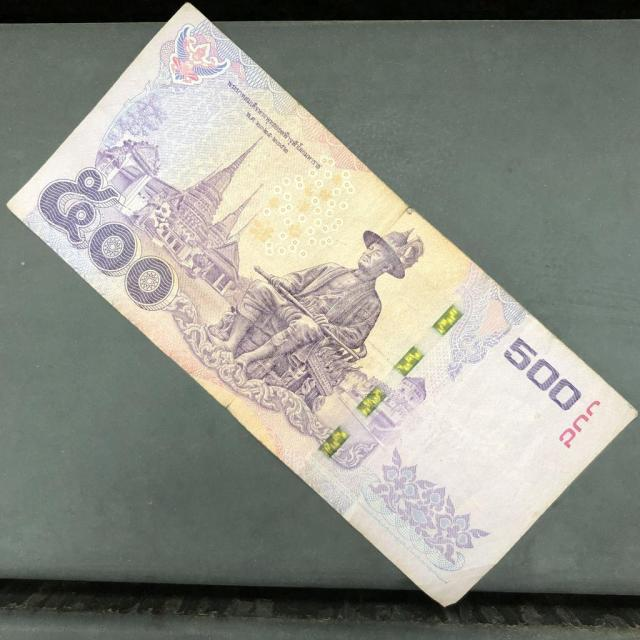THAI500: (8, 6, 638, 609)
